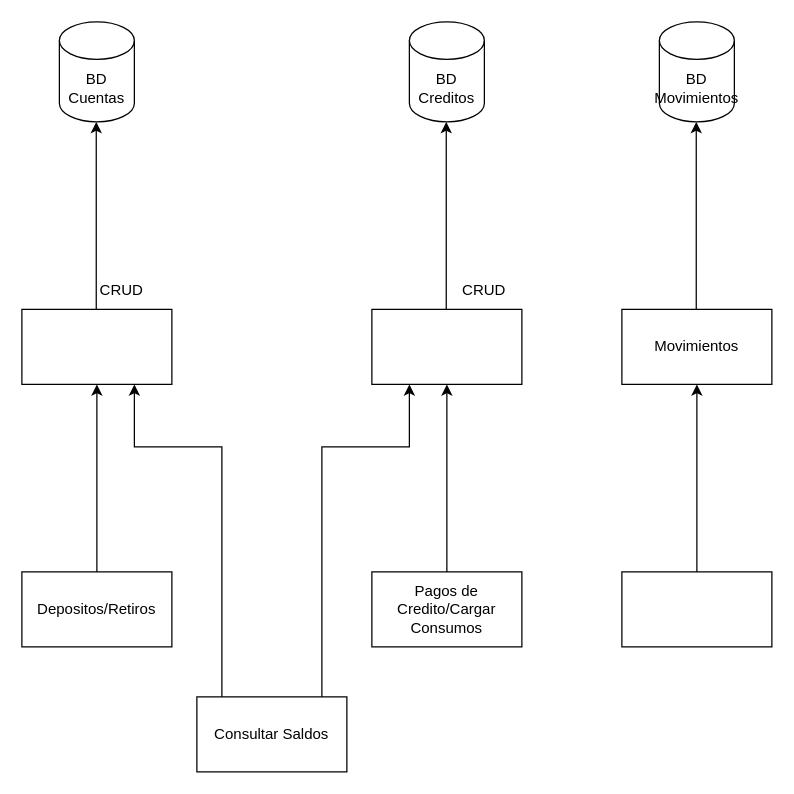
Image size: 794x794. Some labels were removed from this diagram. Each missing label, with the centre of its shape:
Consultar Movimientos: the point at 696,609
Productos Activos: the point at 446,346
Productos Pasivos: the point at 96,346
